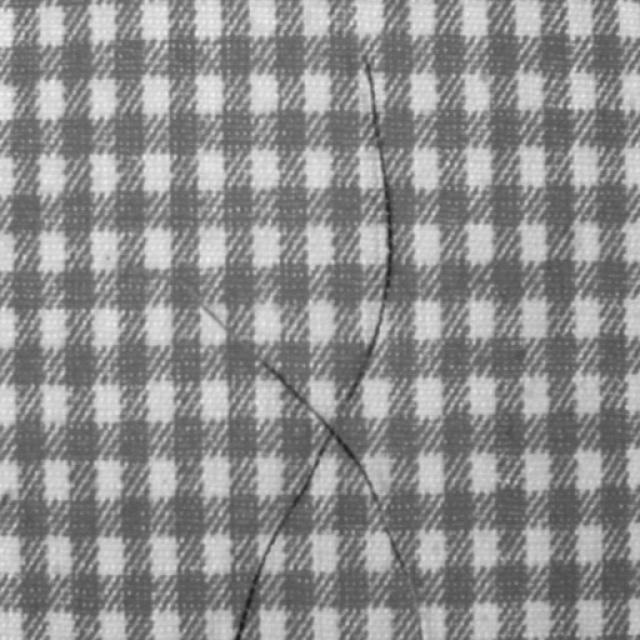Foreign-Body-Defect: (232, 360, 419, 639), (341, 60, 392, 408)
